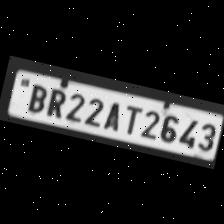2: (80, 92, 108, 128), (61, 88, 88, 124), (136, 105, 162, 140)
3: (194, 118, 219, 152)
4: (176, 113, 200, 148)
6: (156, 109, 181, 143)
A: (100, 96, 126, 132)
B: (22, 79, 49, 114)
R: (43, 84, 69, 119)
T: (119, 100, 144, 134)
